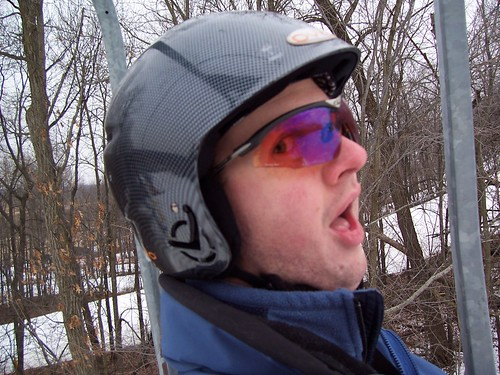helmet: (80, 11, 272, 280)
